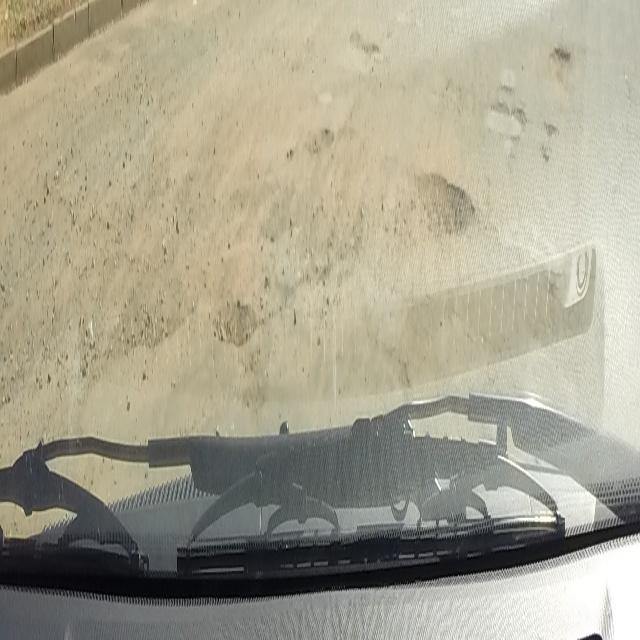pothole: (412, 162, 476, 239), (212, 298, 260, 346), (490, 90, 527, 125), (304, 118, 336, 158), (549, 38, 571, 66), (360, 33, 380, 57), (543, 113, 557, 134)
